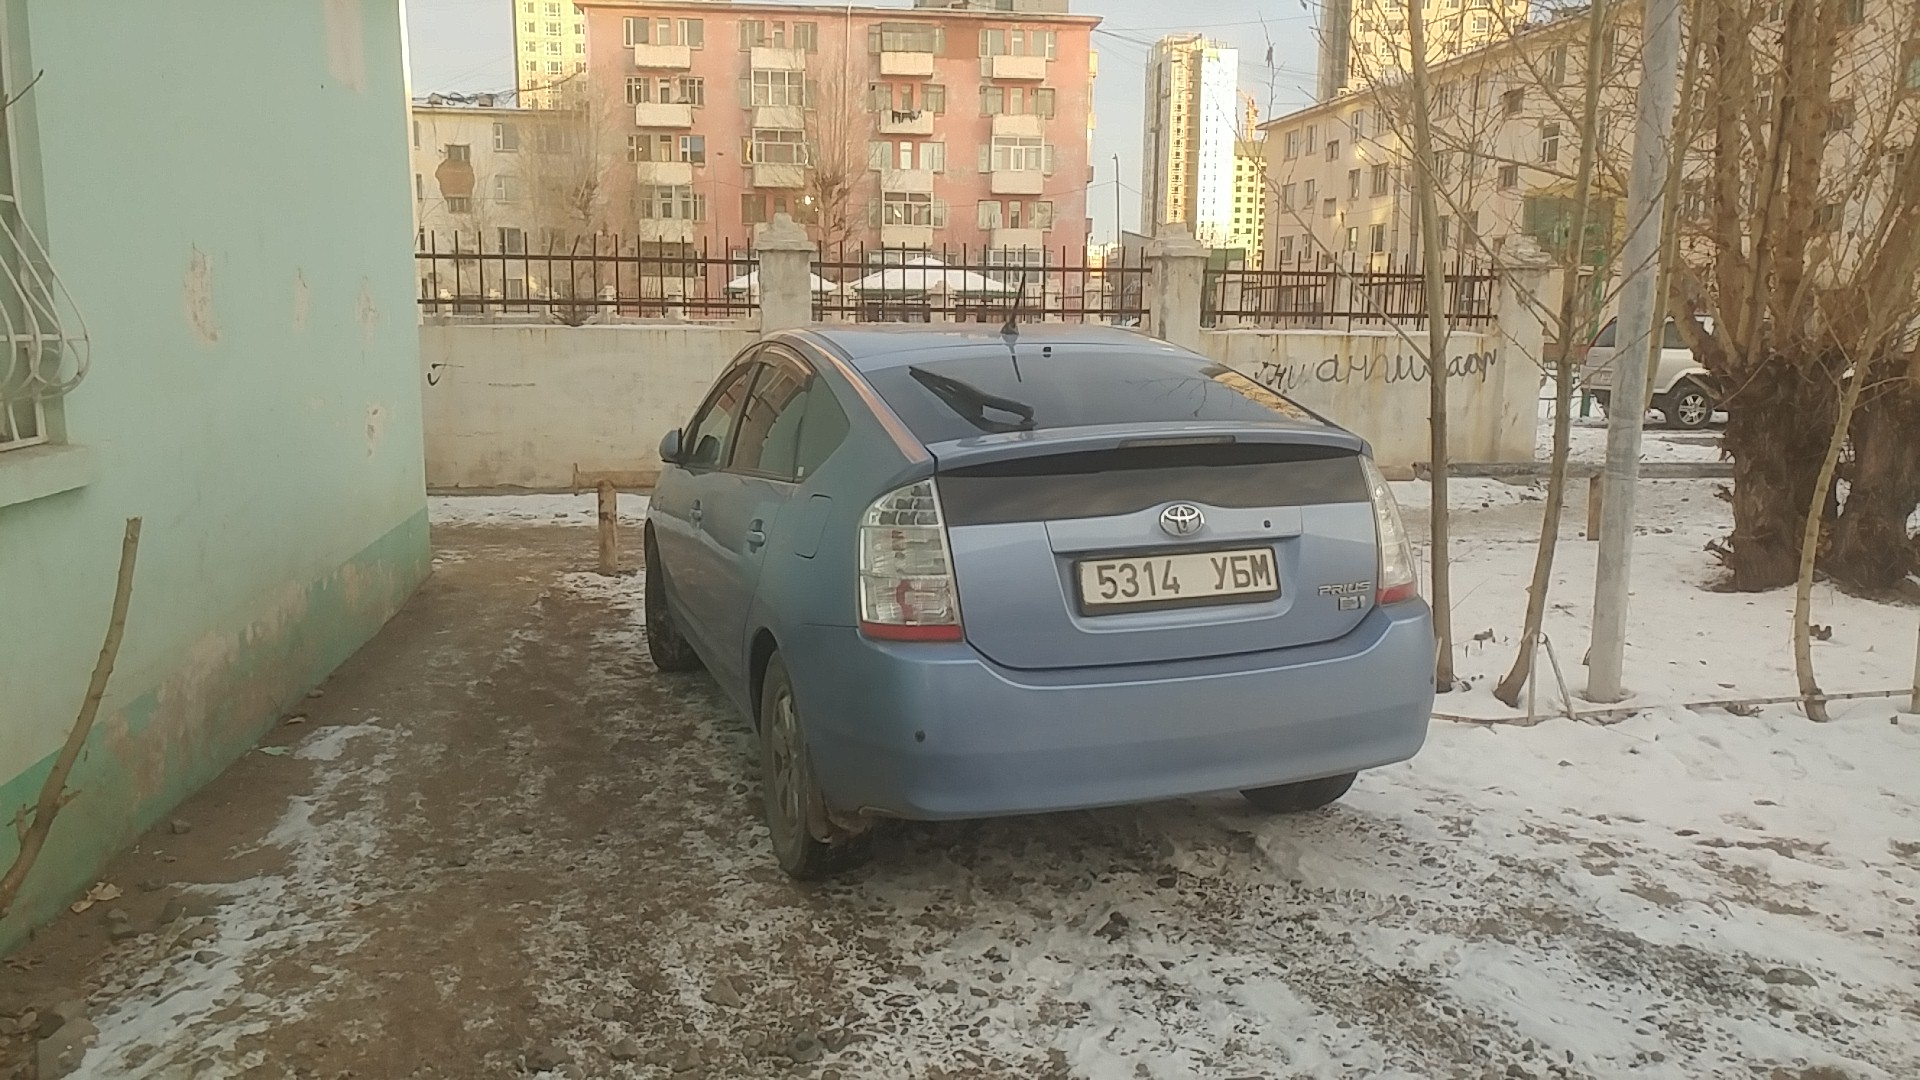1: (1142, 559, 1160, 597)
3: (1118, 561, 1140, 598)
4: (1160, 559, 1182, 595)
5: (1097, 563, 1120, 600)
b: (1229, 554, 1252, 588)
m: (1249, 553, 1273, 588)
plate: (1071, 541, 1284, 616)
u: (1210, 556, 1229, 590)
